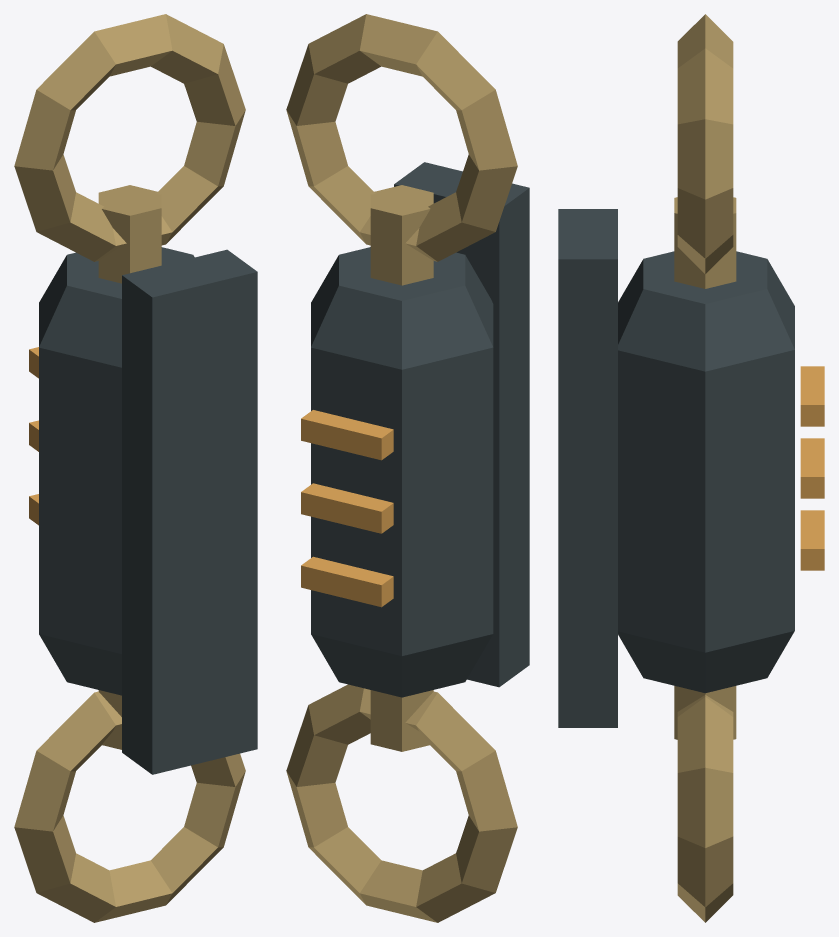
Rendered from Socket_736.fbx.
3 renders of one model, left to right at view 1: azimuth 30°, elevation 25°; view 2: azimuth 150°, elevation 25°; view 3: azimuth 270°, elevation 25°, orthographic.
Parts seen in each view (by area): view 1: Socket_736; view 2: Socket_736; view 3: Socket_736.
Boxes of the visible parts, left/top/right/bottom form: Socket_736: left=14, top=14, right=257, bottom=922; Socket_736: left=286, top=14, right=529, bottom=922; Socket_736: left=558, top=14, right=824, bottom=922.
Size of the model in its own units: 0.066 by 0.2428 by 0.067.
